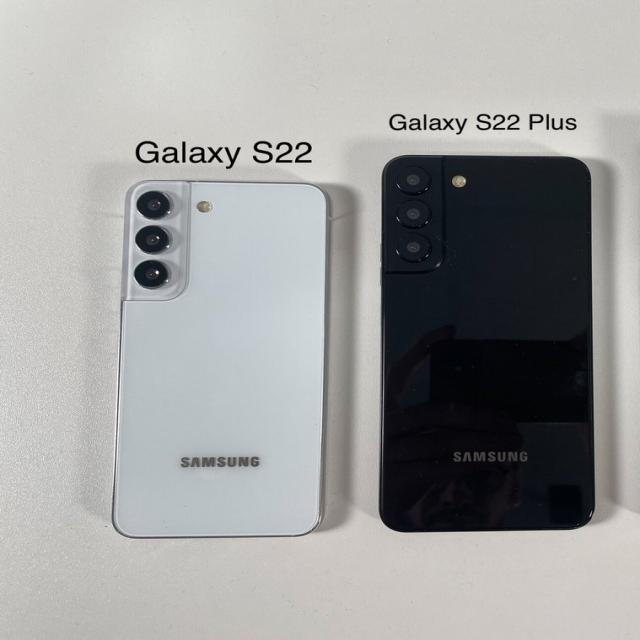phone: (384, 154, 596, 532), (112, 181, 330, 539)
